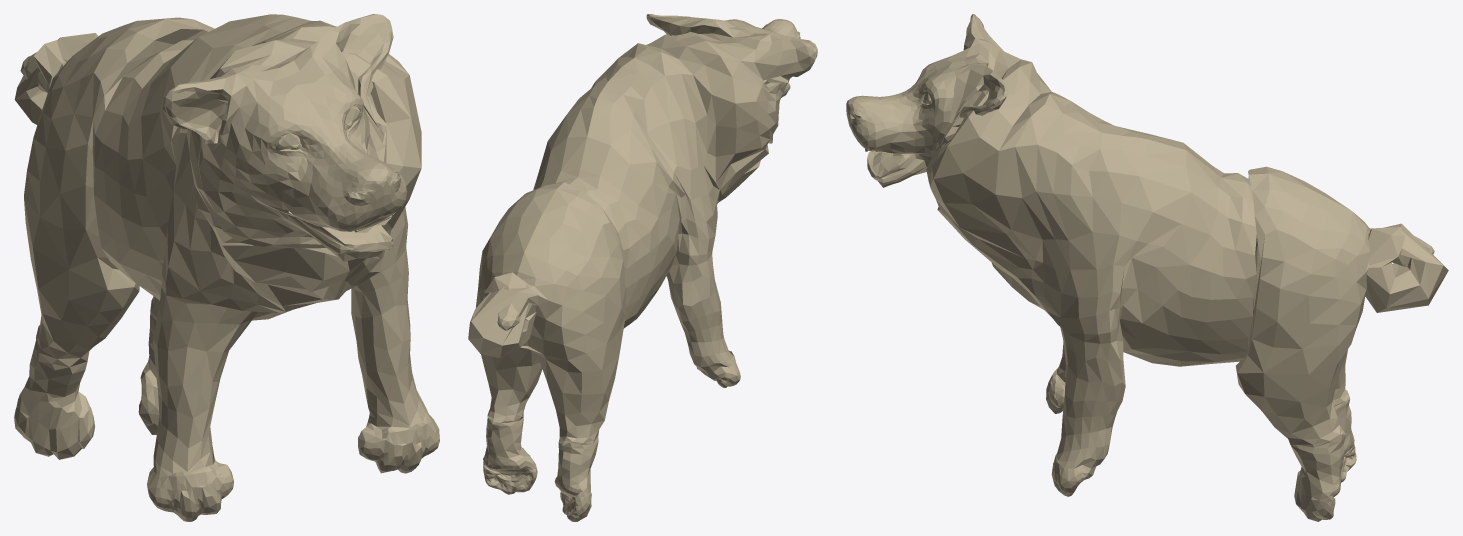
The picture shows the model from 3 angles, left to right: view 1: azimuth 30°, elevation 25°; view 2: azimuth 150°, elevation 25°; view 3: azimuth 270°, elevation 25°; orthographic projection. The views are drawn at different scales.
Visible parts, largest first — view 1: world; view 2: world; view 3: world.
Part boxes in pixels (<box>): world: <box>14,14,439,521</box>; world: <box>468,14,817,521</box>; world: <box>846,14,1448,521</box>.
Bounding box in the file's own units: 0.536 × 0.8849 × 1.12.
